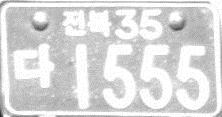1: (71, 41, 92, 111)
3: (113, 8, 139, 41)
5: (174, 44, 211, 112), (101, 42, 137, 110), (138, 42, 174, 110), (140, 6, 164, 41)
다: (12, 42, 56, 90)
전북_O: (60, 8, 113, 37)
